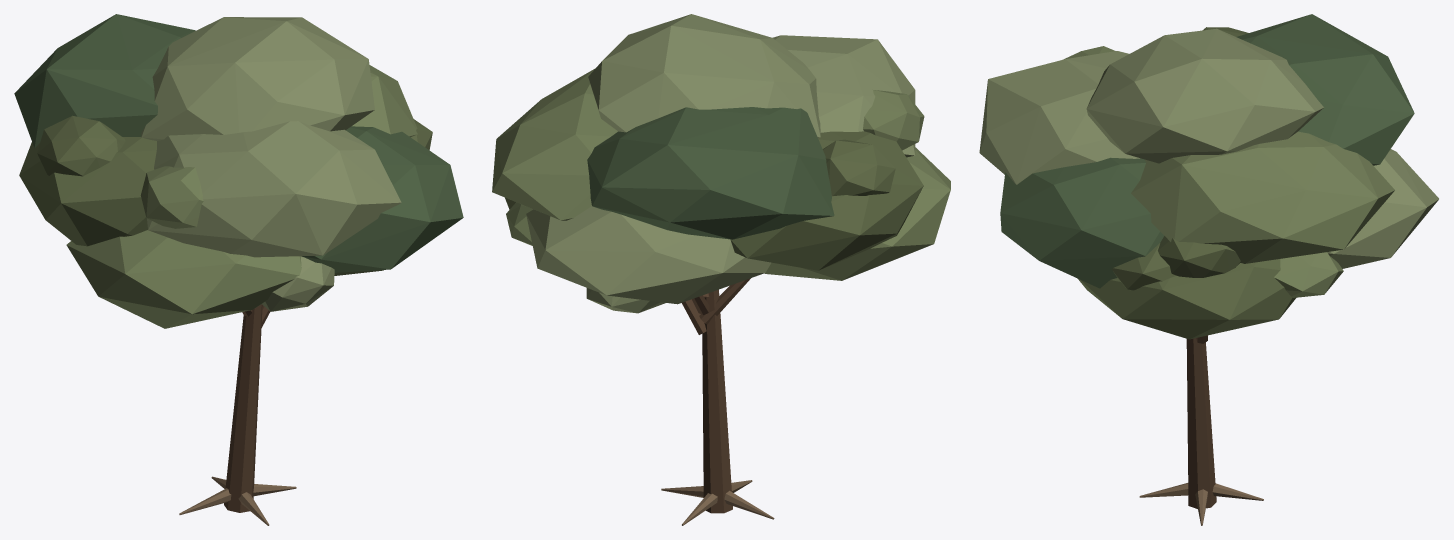
File: olive.glb
3 views of the same model, side by side, from view 1: azimuth 30°, elevation 25°; view 2: azimuth 150°, elevation 25°; view 3: azimuth 270°, elevation 25° (orthographic).
Parts seen in each view (by area): view 1: olive; view 2: olive; view 3: olive.
Part boxes in pixels (bbox=[...]): olive: bbox=[14, 14, 463, 525]; olive: bbox=[492, 14, 950, 525]; olive: bbox=[979, 14, 1438, 525].
Bounding box in the file's own units: 1.46 × 1.66 × 1.48.
